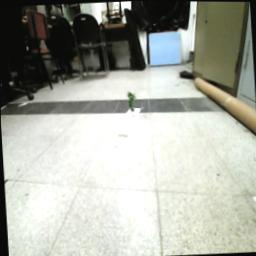herb: (127, 92, 138, 113)
